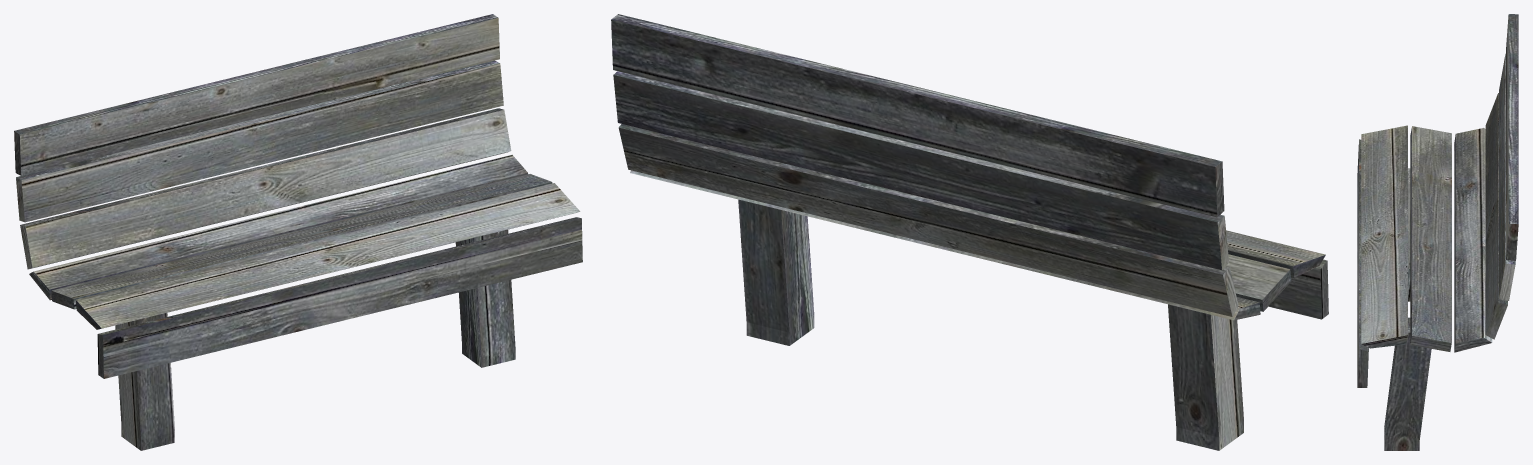
The model's file is citybench.fbx.
The picture shows the model from 3 angles, left to right: view 1: azimuth 30°, elevation 25°; view 2: azimuth 150°, elevation 25°; view 3: azimuth 270°, elevation 25°; orthographic projection. The views are drawn at different scales.
Parts seen in each view (by area): view 1: Cube.002; view 2: Cube.002; view 3: Cube.002.
Boxes of the visible parts, x1,y1,x2,y2 form: Cube.002: (14,14,582,450); Cube.002: (611,14,1328,450); Cube.002: (1357,14,1518,450).
Size of the model in its own units: 141 by 78.13 by 45.74.
